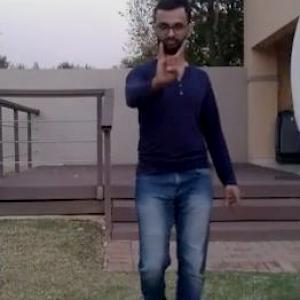takeoff-hand: (144, 29, 192, 88)
